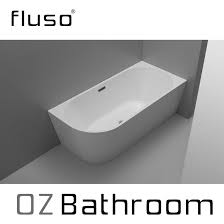bathub: (43, 60, 191, 168)
